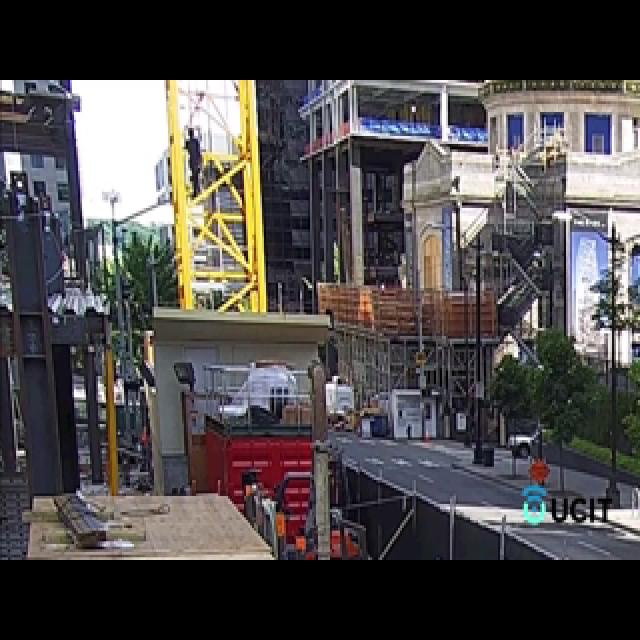arrest: (6, 49, 318, 500)
